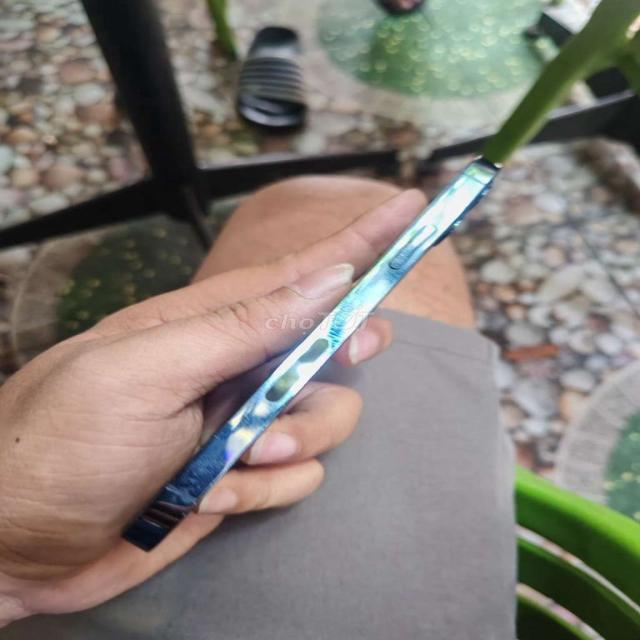gen_12_13: (125, 150, 509, 554)
